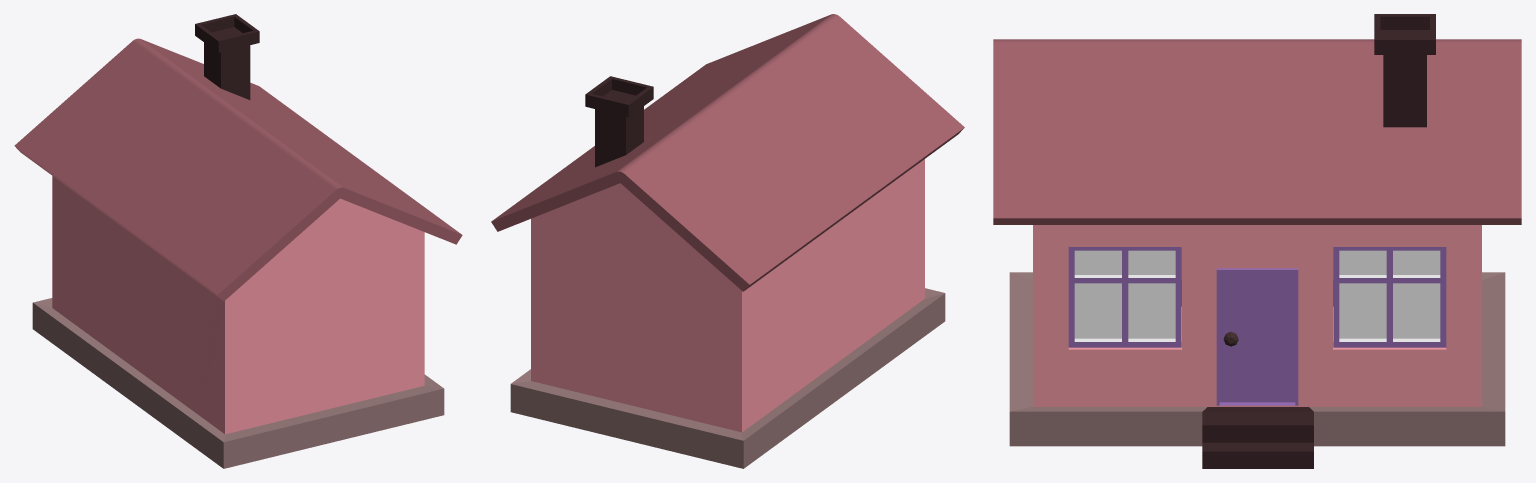
File: NeighbourHouse.fbx
The picture shows the model from 3 angles, left to right: view 1: azimuth 30°, elevation 25°; view 2: azimuth 150°, elevation 25°; view 3: azimuth 270°, elevation 25°; orthographic projection. The views are drawn at different scales.
Parts seen in each view (by area): view 1: Cube, Roof, Chimney; view 2: Cube, Roof, Chimney; view 3: Roof, Cube, Window, Door, Chimney.
Boxes of the visible parts, <box> form: Cube: <box>32,176,444,468</box>; Roof: <box>14,38,462,300</box>; Chimney: <box>195,14,259,99</box>; Cube: <box>510,159,945,468</box>; Roof: <box>491,14,964,291</box>; Chimney: <box>585,76,653,167</box>; Roof: <box>993,39,1521,224</box>; Cube: <box>1009,225,1505,468</box>; Window: <box>1068,247,1446,347</box>; Door: <box>1216,268,1298,405</box>; Chimney: <box>1374,14,1435,127</box>.
Size of the model in its own units: 538 by 558 by 706.
